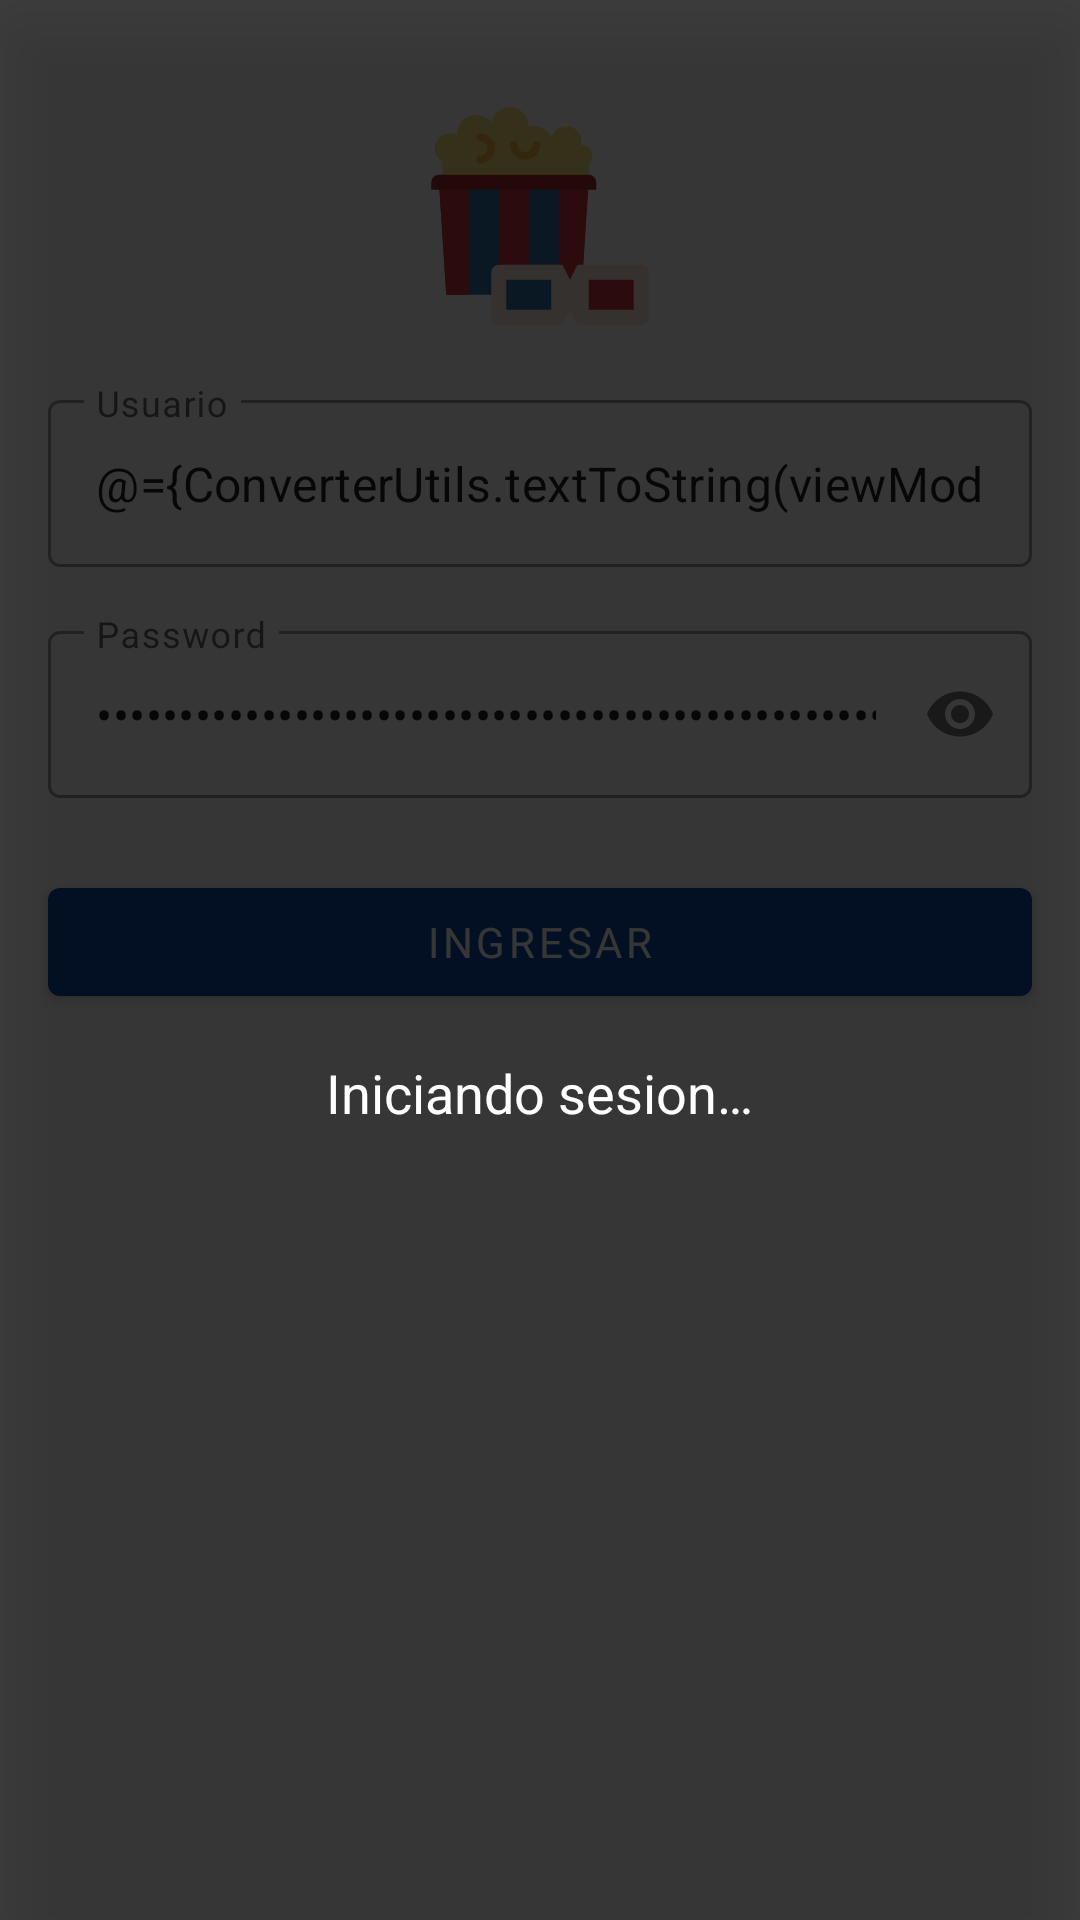

Locate icon controls on the screen. Image size 1080px×1920px, boxes as box=[x1, y1, x2, y2].
icono de la app: box=[431, 108, 634, 310]
